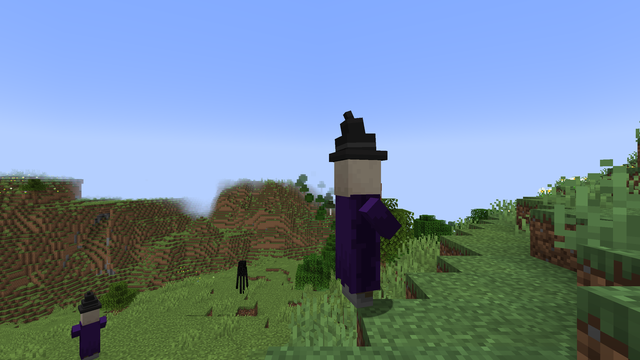endermens: (237, 259, 246, 293)
sorcieres: (333, 153, 383, 309), (74, 302, 104, 358)
